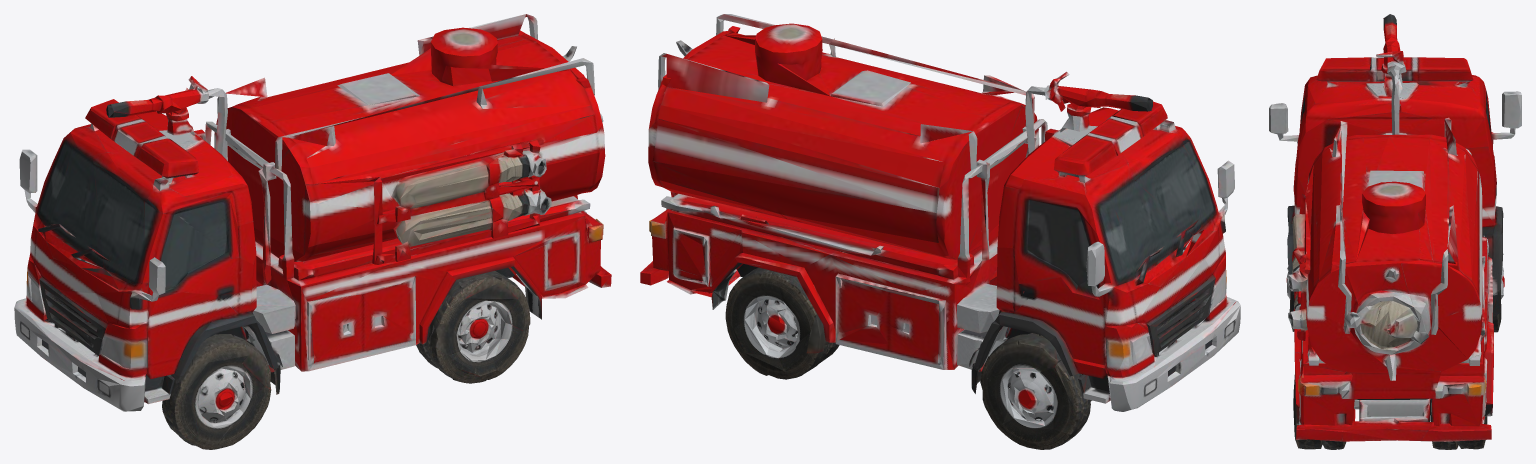
File: damkar.glb
3 renders of one model, left to right at view 1: azimuth 30°, elevation 25°; view 2: azimuth 150°, elevation 25°; view 3: azimuth 270°, elevation 25°, orthographic. The views are drawn at different scales.
Visible parts, largest first — view 1: output_unwrapped; view 2: output_unwrapped; view 3: output_unwrapped.
Part boxes in pixels (x1,y1,x2,y2): output_unwrapped: (14,14,611,449); output_unwrapped: (640,14,1240,449); output_unwrapped: (1269,14,1521,449).
Bounding box in the file's own units: 1.9 × 1.12 × 0.8812.
1 material, 1 textured.
